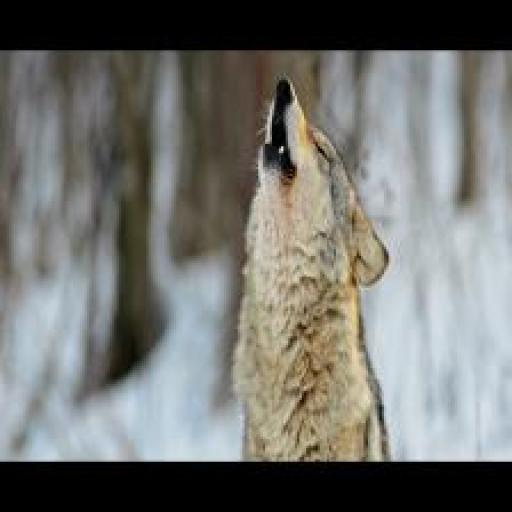wolf: (228, 66, 420, 512)
